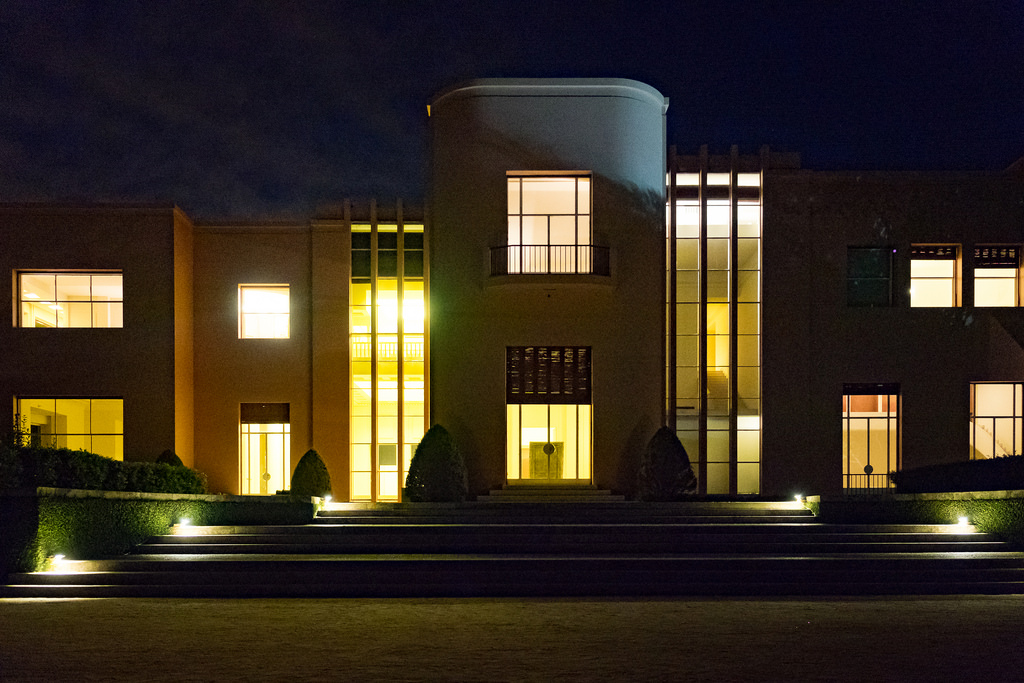serralves: (0, 76, 1023, 500)
